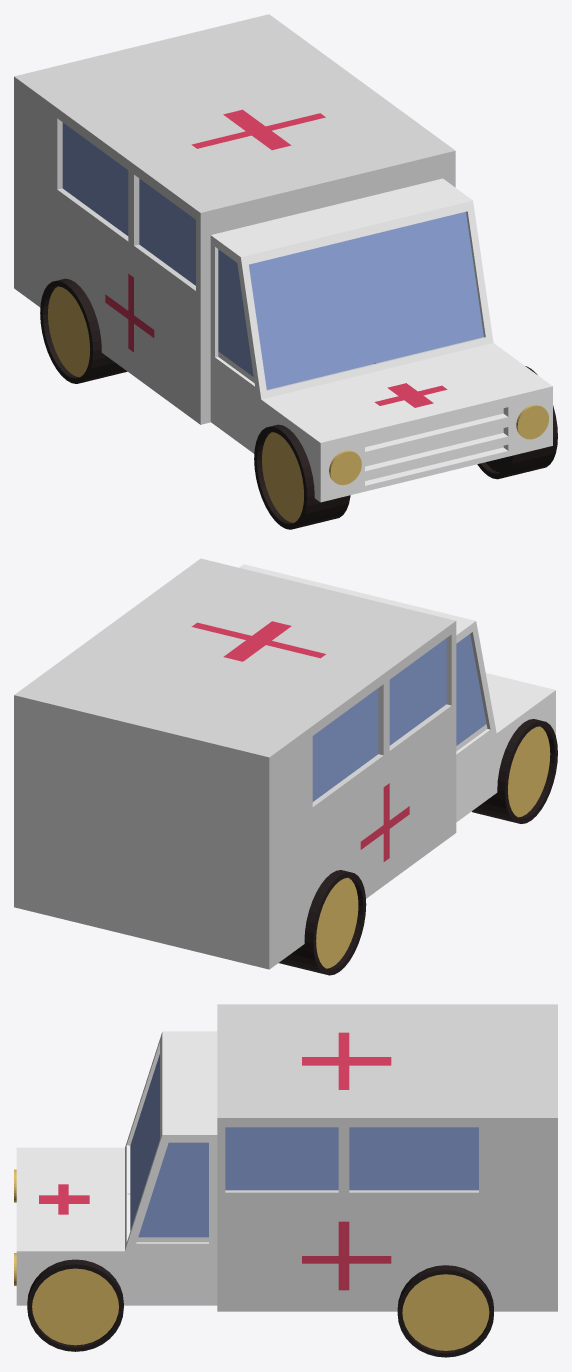
File: Ambulance Truck.glb
3 views of the same model, one above another, from view 1: azimuth 30°, elevation 25°; view 2: azimuth 150°, elevation 25°; view 3: azimuth 270°, elevation 25° (orthographic). The views are drawn at different scales.
Parts seen in each view (by area): view 1: Cube.001, Cube, Cylinder.004, Cylinder.005, Cylinder.002, Cylinder, Cylinder.001; view 2: Cube.001, Cube, Cylinder.005, Cylinder.004; view 3: Cube.001, Cube, Cylinder.002, Cylinder.003.
Boxes of the visible parts, x1,y1,x2,y2 form: Cube.001: (14, 14, 455, 424); Cube: (210, 178, 552, 502); Cylinder.004: (254, 424, 350, 529); Cylinder.005: (40, 278, 127, 383); Cylinder.002: (477, 366, 557, 479); Cylinder: (516, 404, 548, 439); Cylinder.001: (329, 450, 361, 484); Cube.001: (14, 558, 456, 969); Cube: (239, 564, 555, 822); Cylinder.005: (279, 870, 366, 975); Cylinder.004: (472, 719, 557, 823); Cube.001: (217, 1004, 557, 1311); Cube: (16, 1031, 217, 1305); Cylinder.002: (27, 1259, 123, 1351); Cylinder.003: (397, 1265, 493, 1357).
Size of the model in its own units: 2.89 by 2.58 by 5.42.
